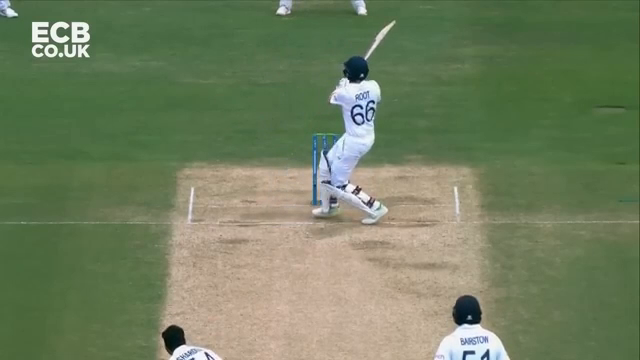batsman: (310, 24, 395, 227)
